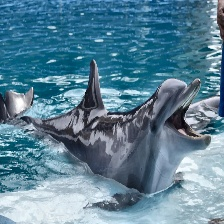dolphin: (16, 58, 203, 191)
